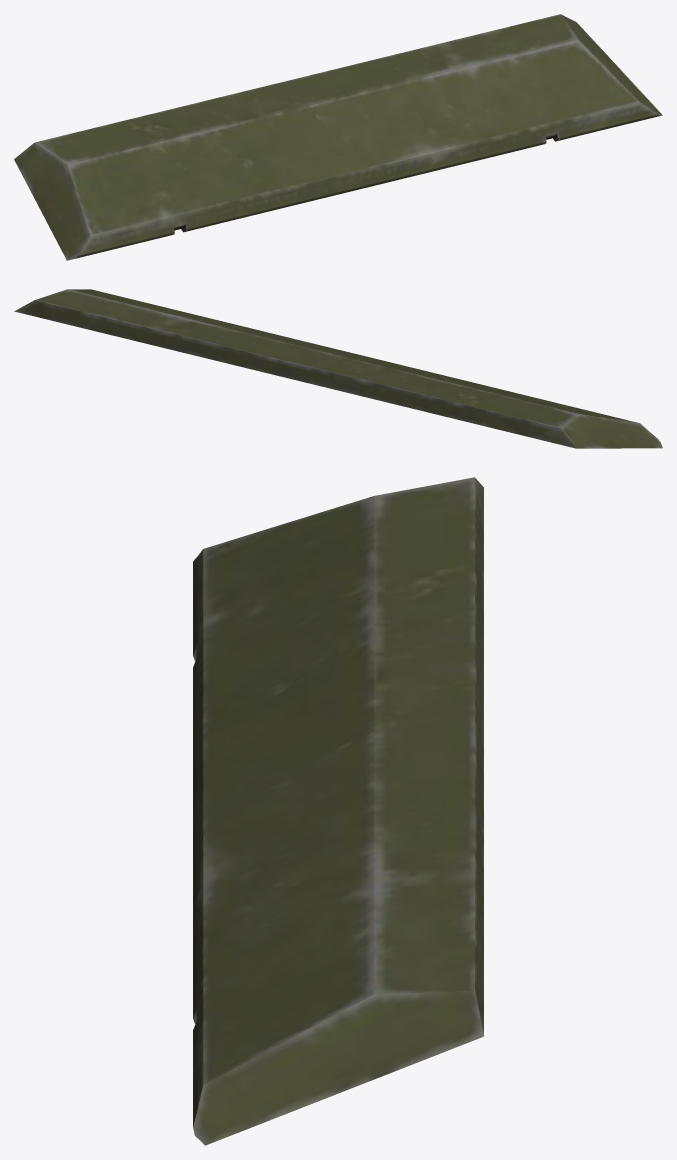
File: palka.obj
3 renders of one model, top to bottom at view 1: azimuth 30°, elevation 25°; view 2: azimuth 150°, elevation 25°; view 3: azimuth 270°, elevation 25°, orthographic. The views are drawn at different scales.
Parts seen in each view (by area): view 1: vehicle#breakwater_149; view 2: vehicle#breakwater_149; view 3: vehicle#breakwater_149.
Part boxes in pixels (bbox=[...]): vehicle#breakwater_149: bbox=[14, 14, 662, 260]; vehicle#breakwater_149: bbox=[14, 289, 662, 448]; vehicle#breakwater_149: bbox=[193, 477, 483, 1145].
Size of the model in its own units: 1.9 by 0.1844 by 0.4022.
